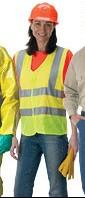hat: (29, 2, 59, 24)
low quality vest: (15, 49, 73, 135)
no protective face gear: (29, 19, 57, 42)
